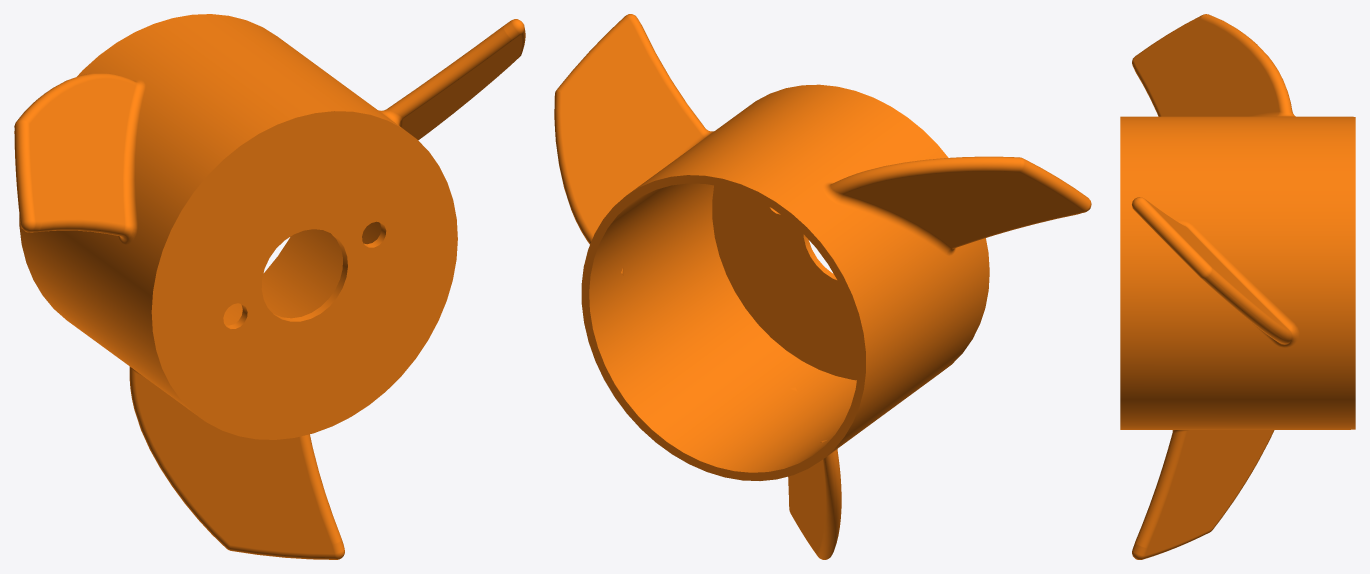
The model's file is T200-CCW.dae.
3 renders of one model, left to right at view 1: azimuth 30°, elevation 25°; view 2: azimuth 150°, elevation 25°; view 3: azimuth 270°, elevation 25°, orthographic. The views are drawn at different scales.
Visible parts, largest first — view 1: T200-CCW; view 2: T200-CCW; view 3: T200-CCW.
Boxes of the visible parts, bbox=[...] form: T200-CCW: bbox=[14, 14, 525, 559]; T200-CCW: bbox=[554, 14, 1091, 559]; T200-CCW: bbox=[1120, 14, 1355, 559].
Bounding box in the file's own units: 0.0701 × 0.03 × 0.0622.
